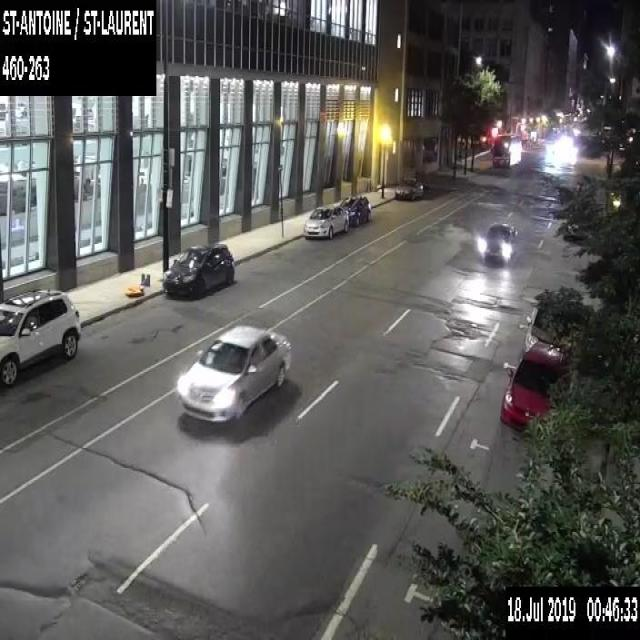bus: (492, 131, 522, 167)
construction: (123, 272, 150, 294)
vehicle: (175, 321, 292, 424), (0, 285, 83, 388), (500, 340, 565, 434), (162, 242, 235, 296), (522, 304, 568, 354), (304, 204, 348, 238), (482, 222, 517, 262), (338, 194, 370, 226), (393, 176, 422, 200)
